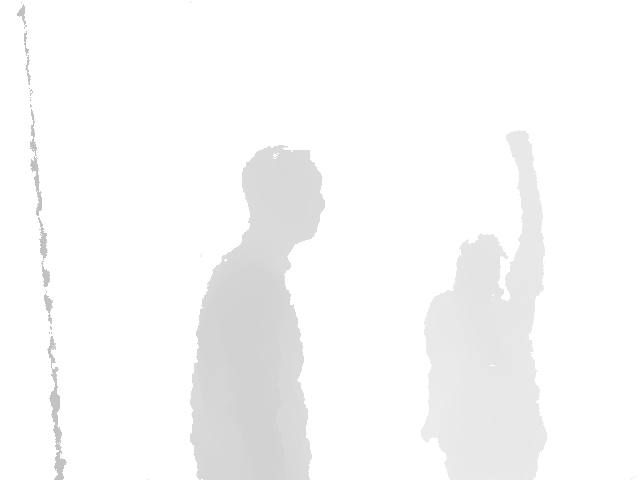hand: (504, 129, 537, 171)
head: (241, 144, 326, 248), (453, 233, 505, 299)
person: (188, 144, 327, 480), (419, 129, 549, 480)
